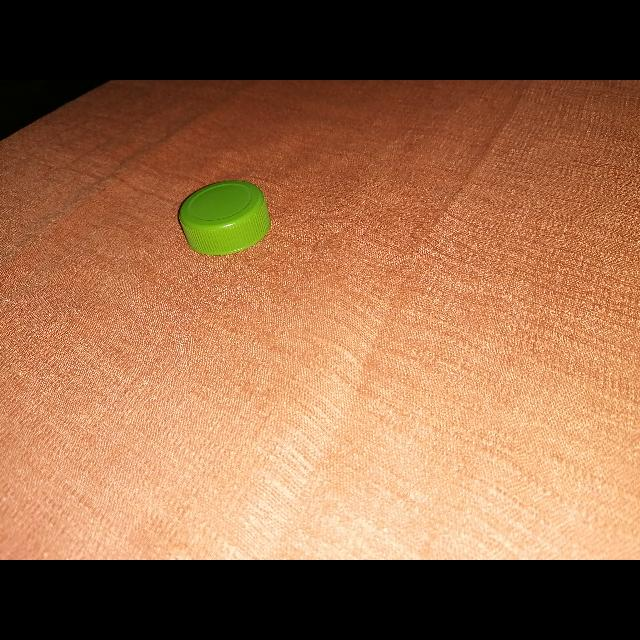plastic_bottle_cap: (178, 180, 272, 254)
